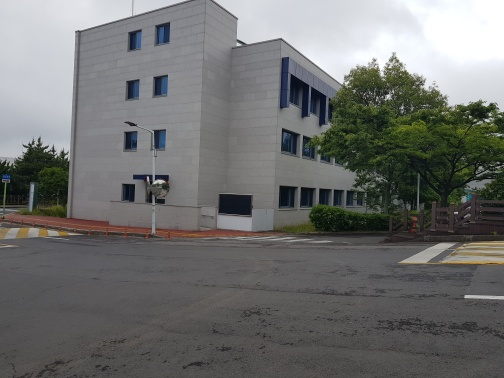College of Social Sciences: (57, 14, 377, 235)
